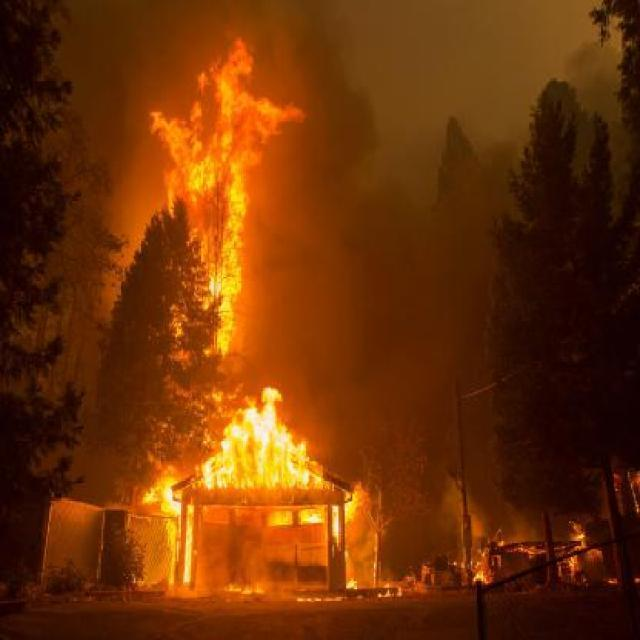Fire: (132, 28, 305, 395), (133, 382, 390, 615)
Smoke: (45, 0, 585, 593)
